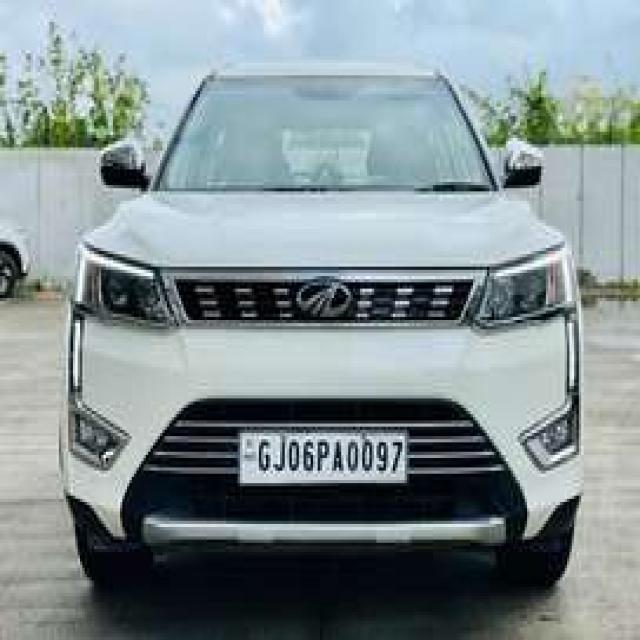Plate: (236, 425, 406, 481)
